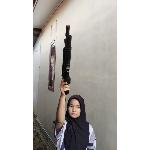Senapan: (60, 24, 76, 96)
